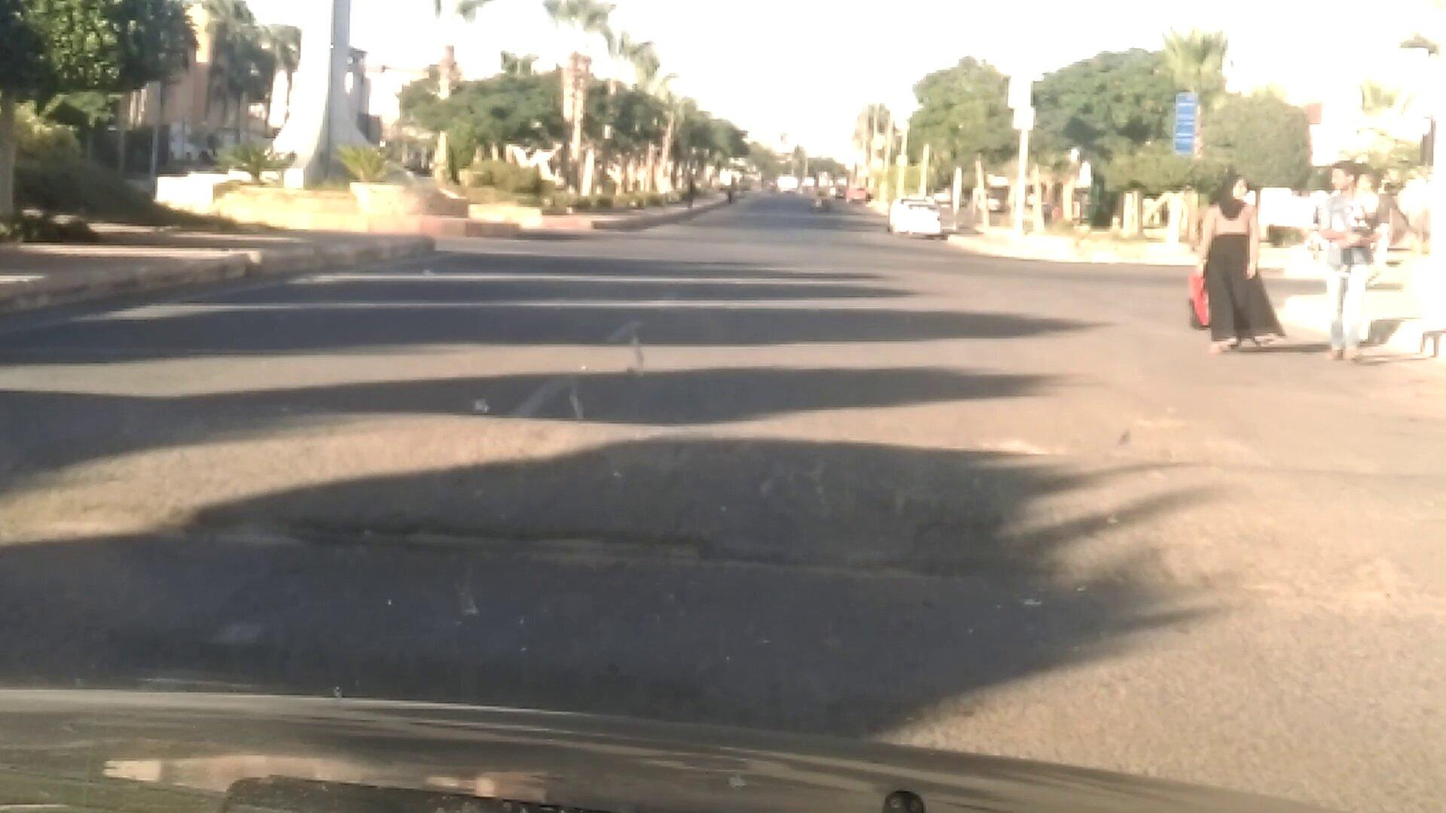Pothole: (164, 484, 1105, 591)
